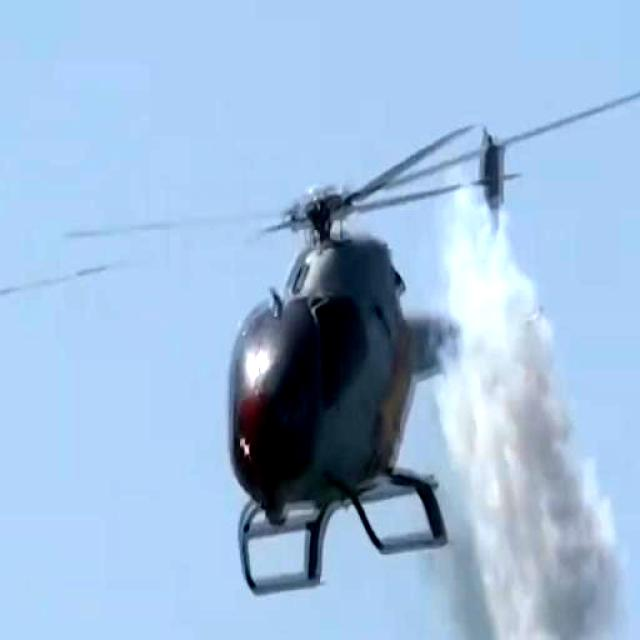drone: (184, 108, 449, 618)
